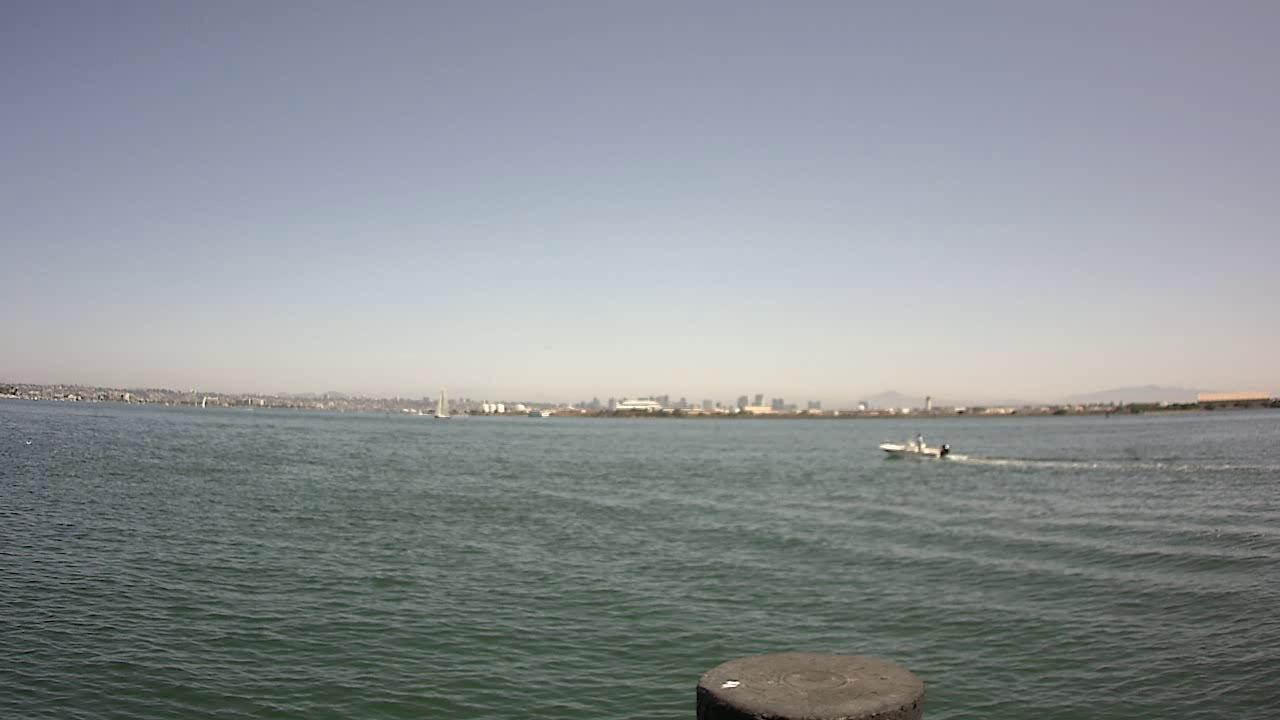target: (875, 427, 960, 468)
